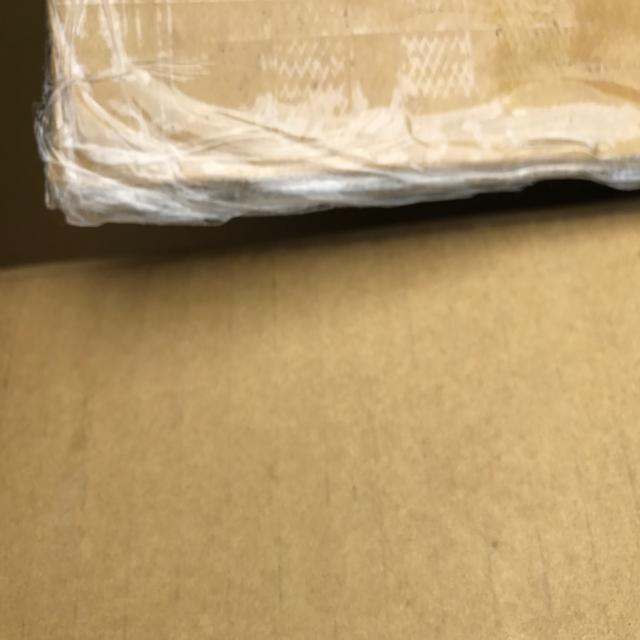cardboard: (34, 0, 640, 229)
